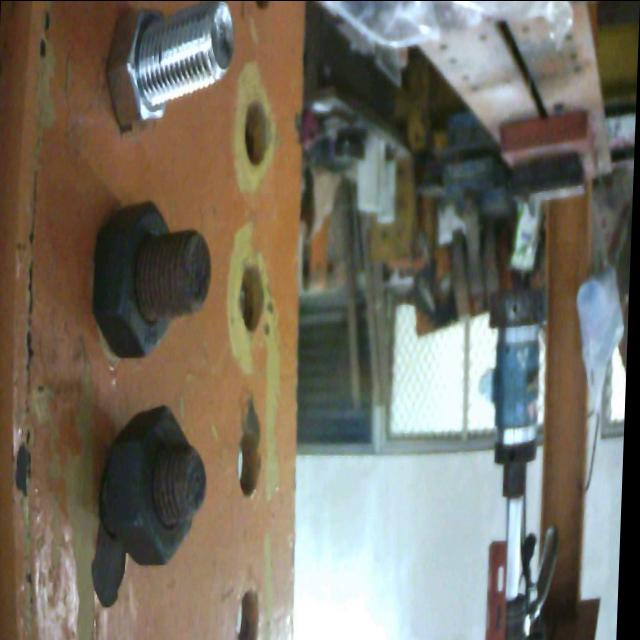Loose bolt: (103, 405, 213, 567)
Missing bolt: (244, 102, 274, 168), (241, 265, 269, 333), (240, 433, 266, 499), (238, 589, 266, 640)
Regular bolt: (107, 1, 235, 129)
Rusty bolt: (98, 208, 216, 364), (99, 405, 212, 565)
